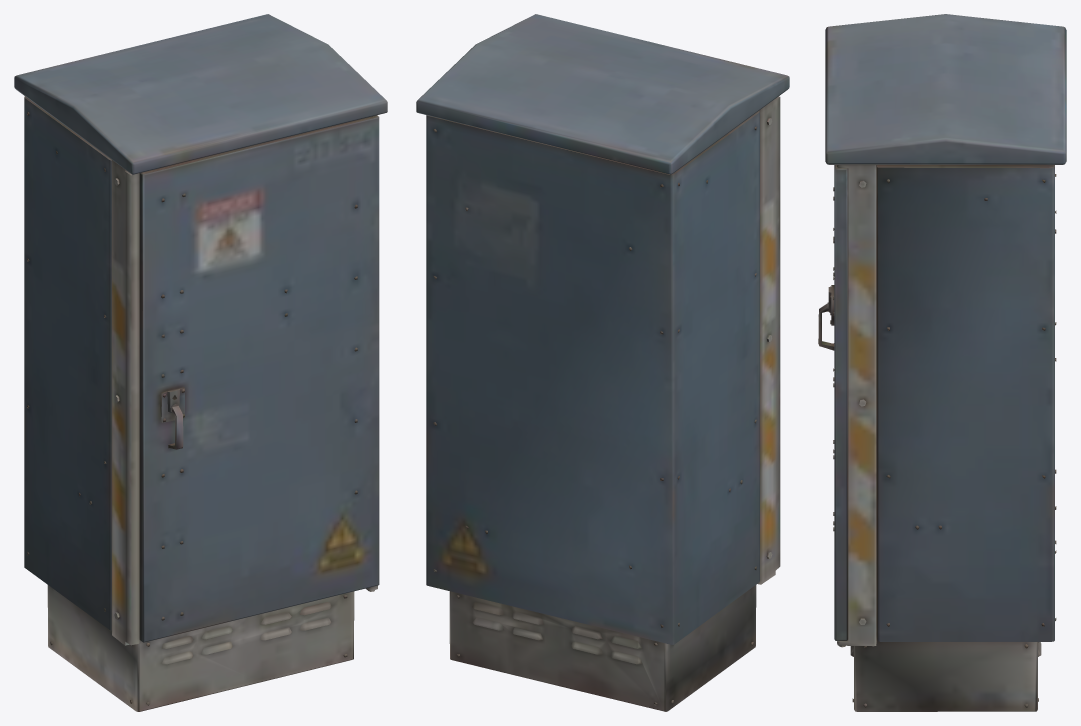
The model's file is utility_box_01.glb.
3 renders of one model, left to right at view 1: azimuth 30°, elevation 25°; view 2: azimuth 150°, elevation 25°; view 3: azimuth 270°, elevation 25°, orthographic.
Parts seen in each view (by area): view 1: utility_box_01_box; view 2: utility_box_01_box; view 3: utility_box_01_box.
Boxes of the visible parts, left/top/right/bottom form: utility_box_01_box: left=14, top=14, right=387, bottom=711; utility_box_01_box: left=416, top=14, right=789, bottom=711; utility_box_01_box: left=818, top=14, right=1066, bottom=711.
Bounding box in the file's own units: 0.52 × 1.12 × 0.432.
1 material, 1 textured.
